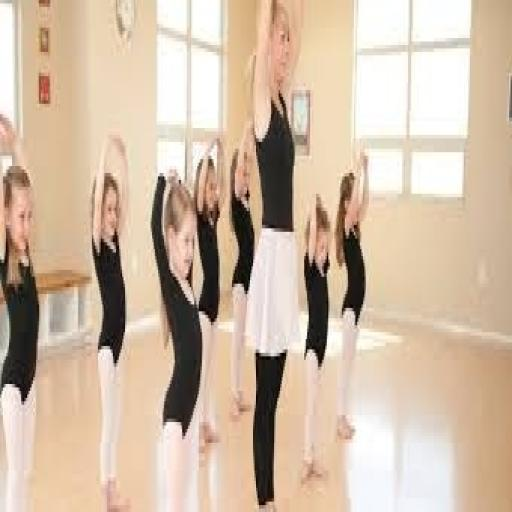dancing: (242, 0, 306, 509), (173, 102, 244, 490), (220, 57, 278, 454), (148, 166, 208, 509), (88, 128, 132, 509), (333, 142, 373, 446)
